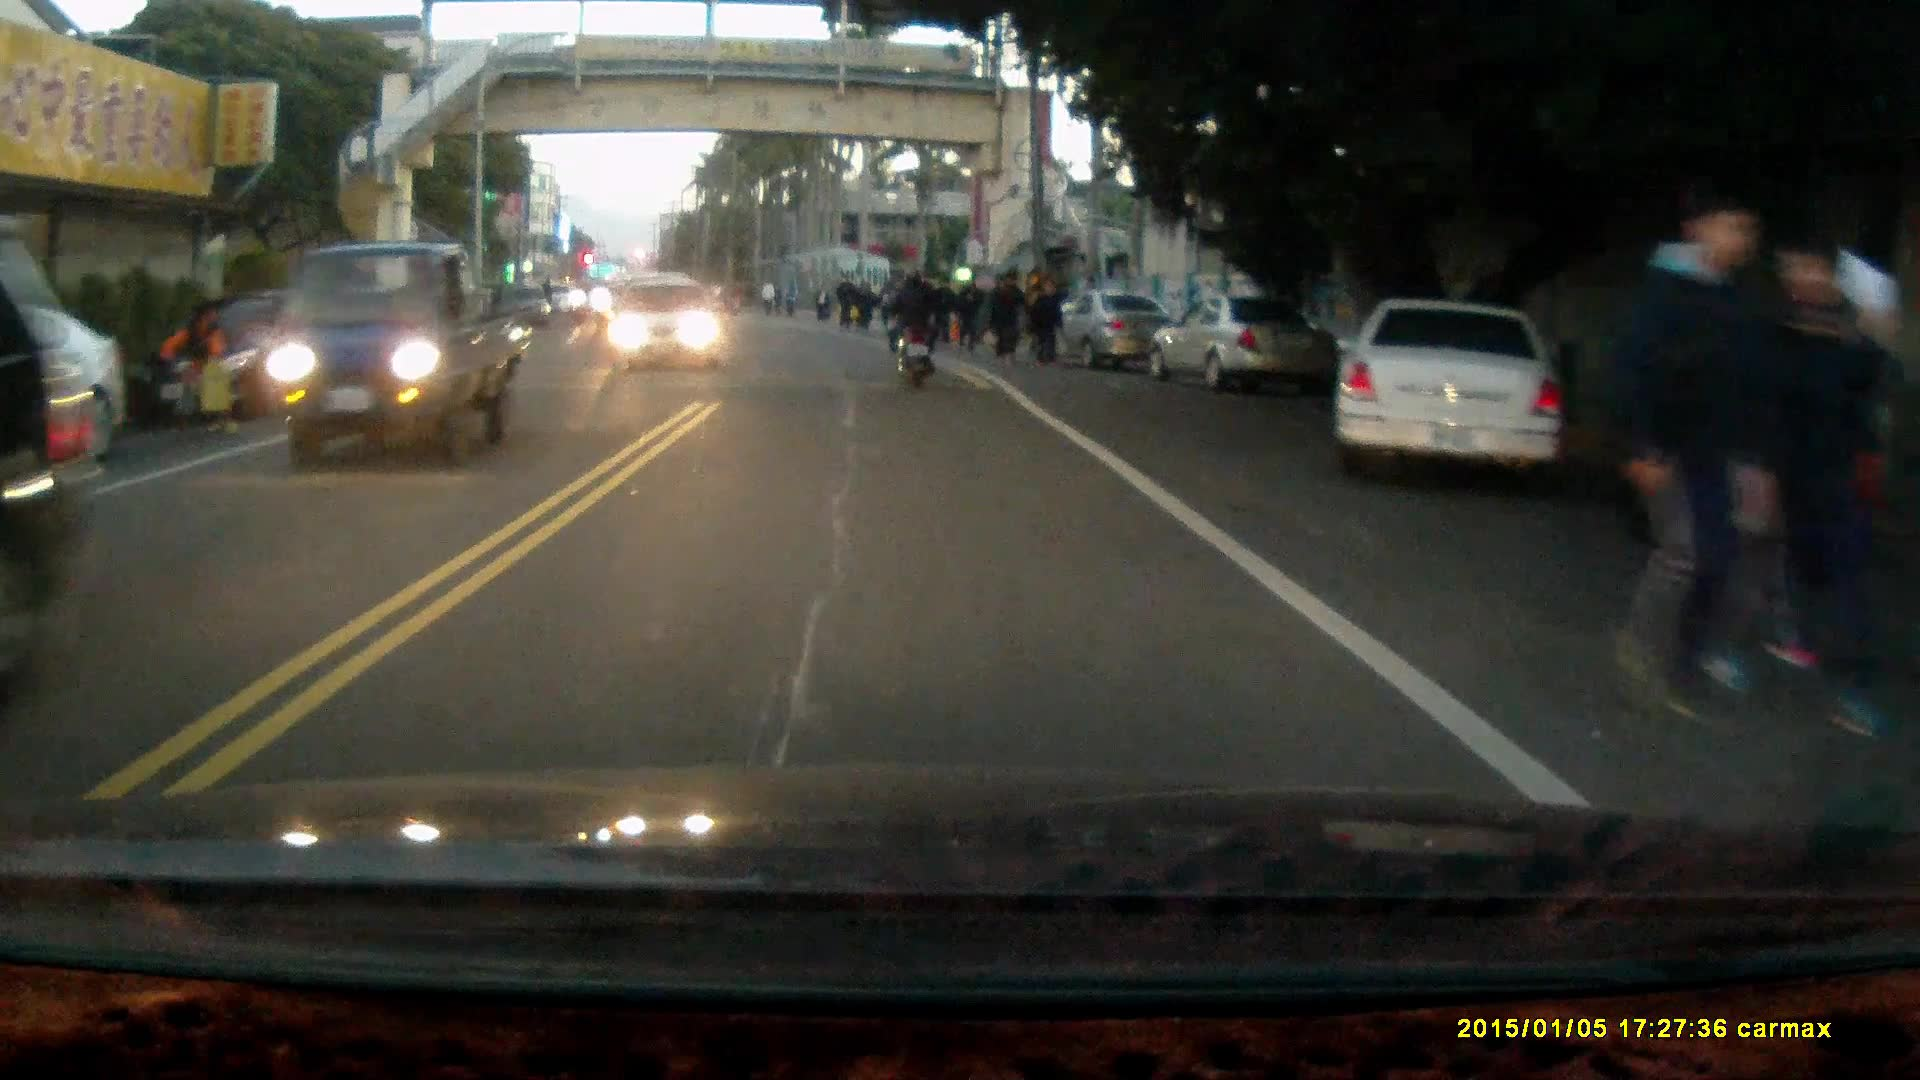pedestrian: (1605, 180, 1775, 722), (1728, 231, 1895, 727), (996, 264, 1029, 360), (988, 274, 1018, 367), (1033, 280, 1062, 360), (954, 269, 981, 350)
rider: (879, 265, 942, 389)
vehicle: (261, 241, 534, 470), (1, 213, 106, 690), (1334, 293, 1567, 474), (161, 287, 368, 424), (1158, 295, 1334, 397), (1051, 289, 1178, 371), (610, 279, 722, 370)
